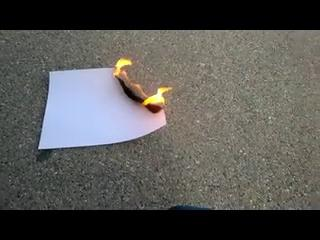Fire: (112, 52, 175, 111)
